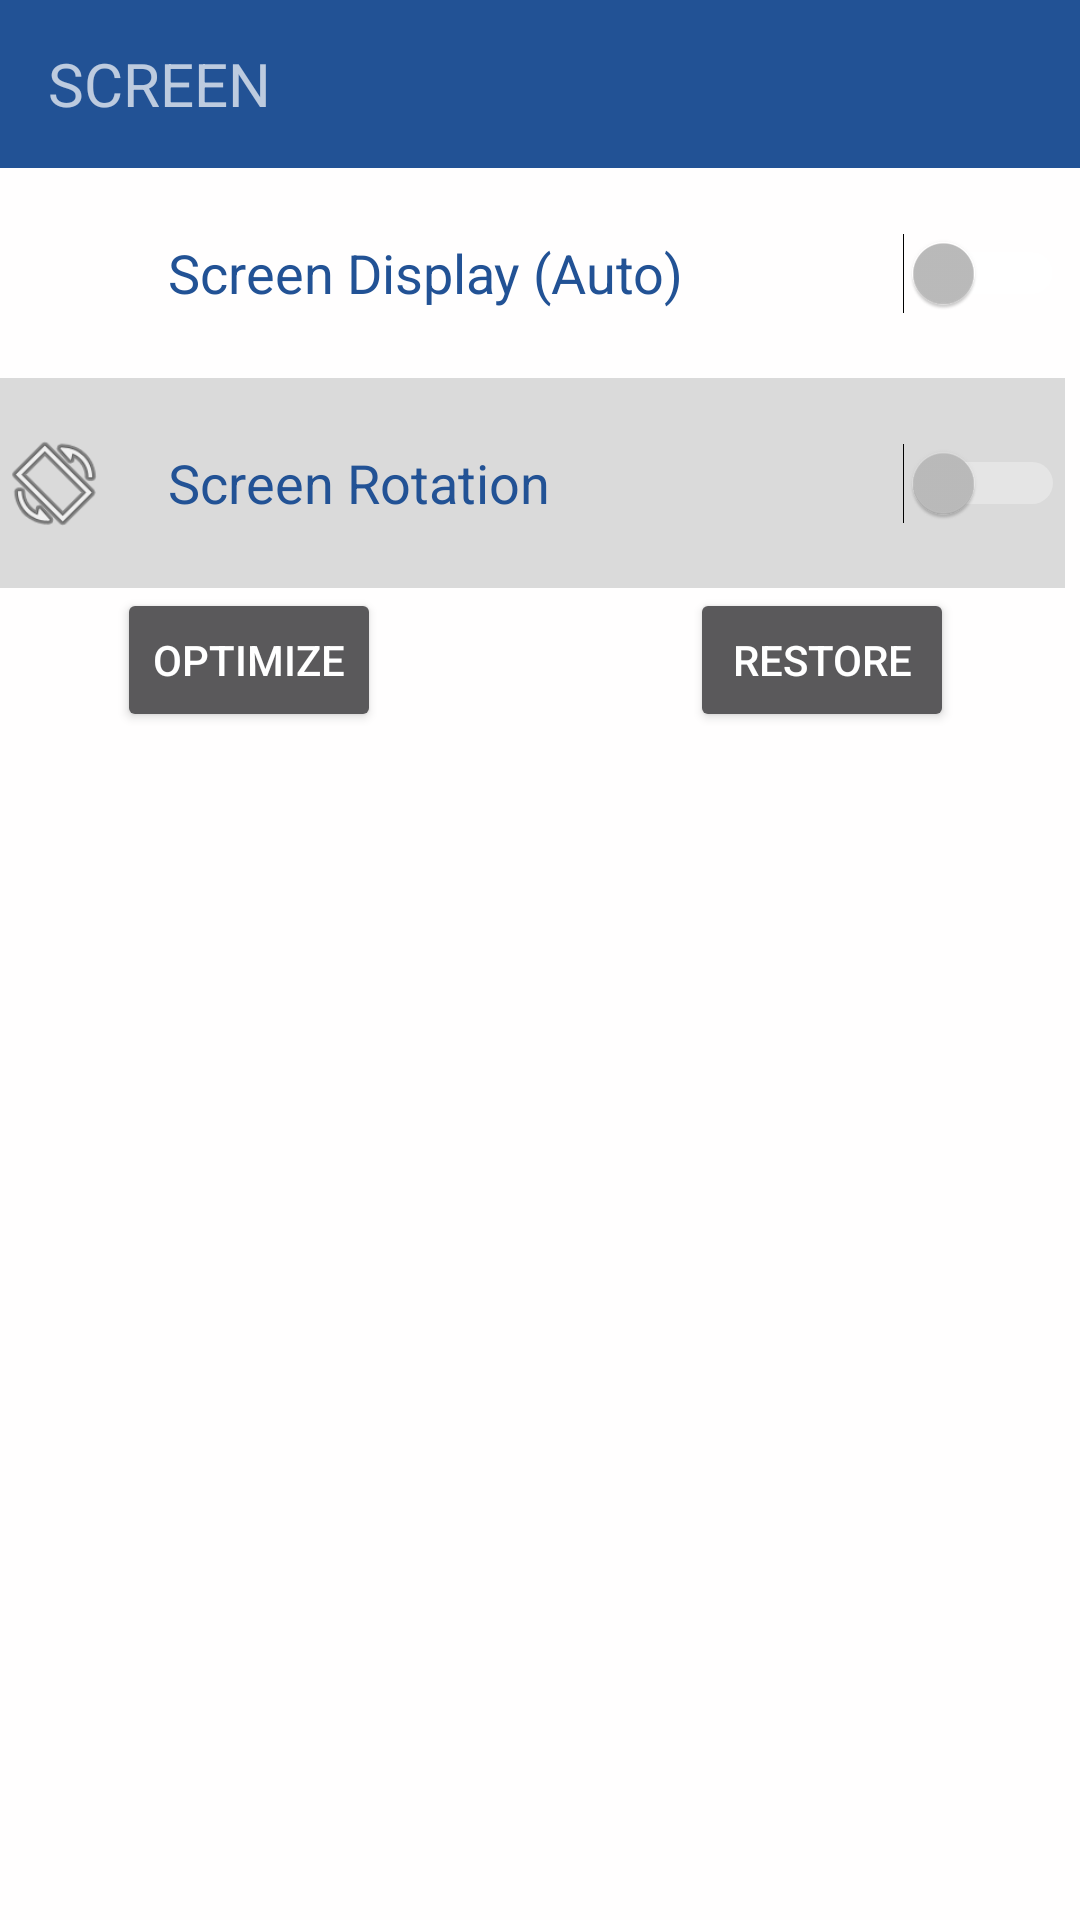

Icon bounding boxes for this 1080w x 1920h phone screenshot, format (x1=x1, y1=y1, x2=x2, y2=y2):
always landscape portrait: (x1=12, y1=442, x2=96, y2=525)
